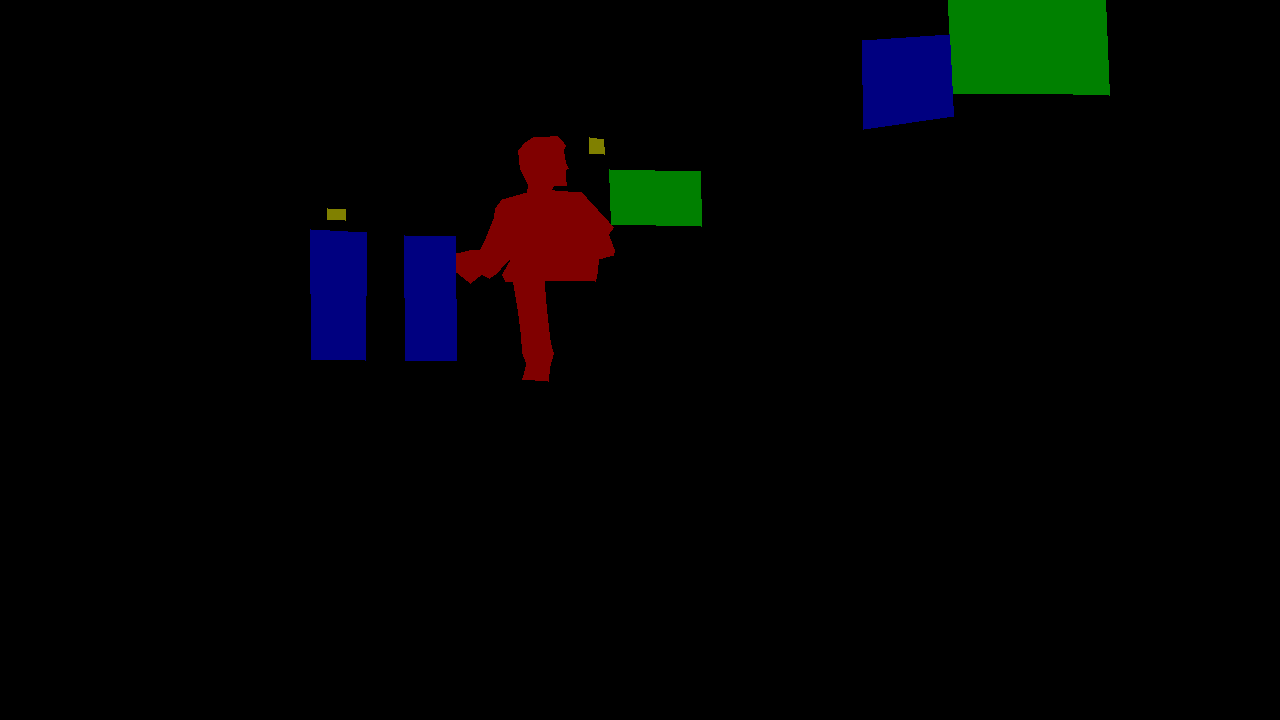door: (310, 229, 366, 360), (404, 235, 456, 360)
person: (444, 136, 614, 381)
sign: (589, 137, 604, 154), (327, 208, 345, 220)
tvmonitor: (948, 0, 1109, 95), (862, 34, 953, 129), (609, 169, 701, 226)
